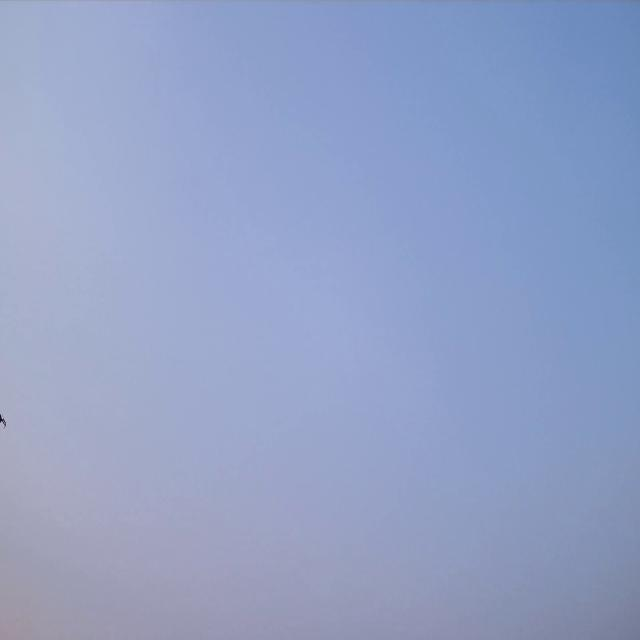UAV: (0, 408, 7, 428)
